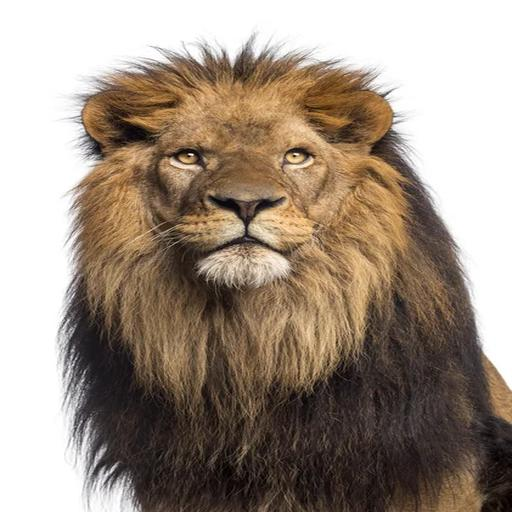Lion: (48, 25, 512, 512)
